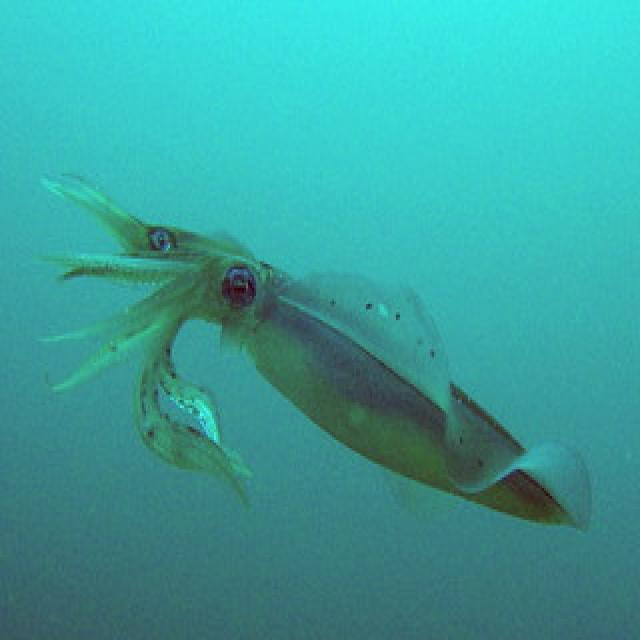SQUID: (35, 147, 640, 553)
